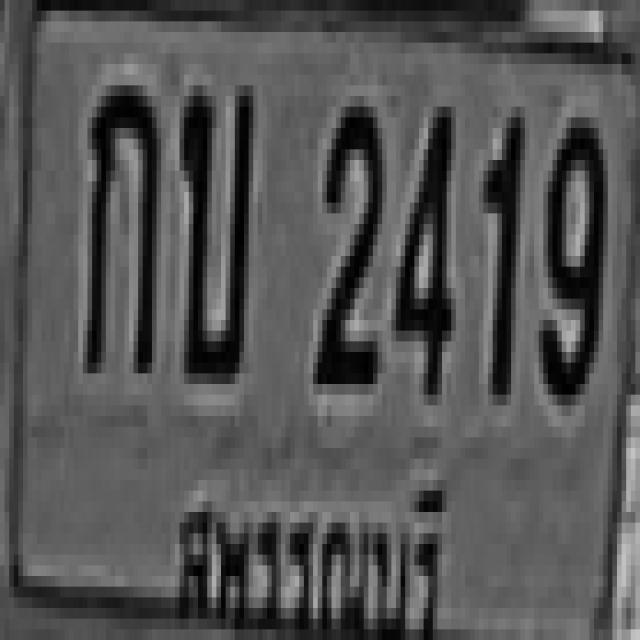1: (479, 106, 520, 394)
10GorGai: (83, 75, 156, 362)
2: (313, 96, 378, 373)
35BorBaiMai: (177, 75, 251, 373)
4: (392, 96, 452, 395)
9: (536, 106, 601, 394)
SuphanBuri: (163, 455, 460, 640)
